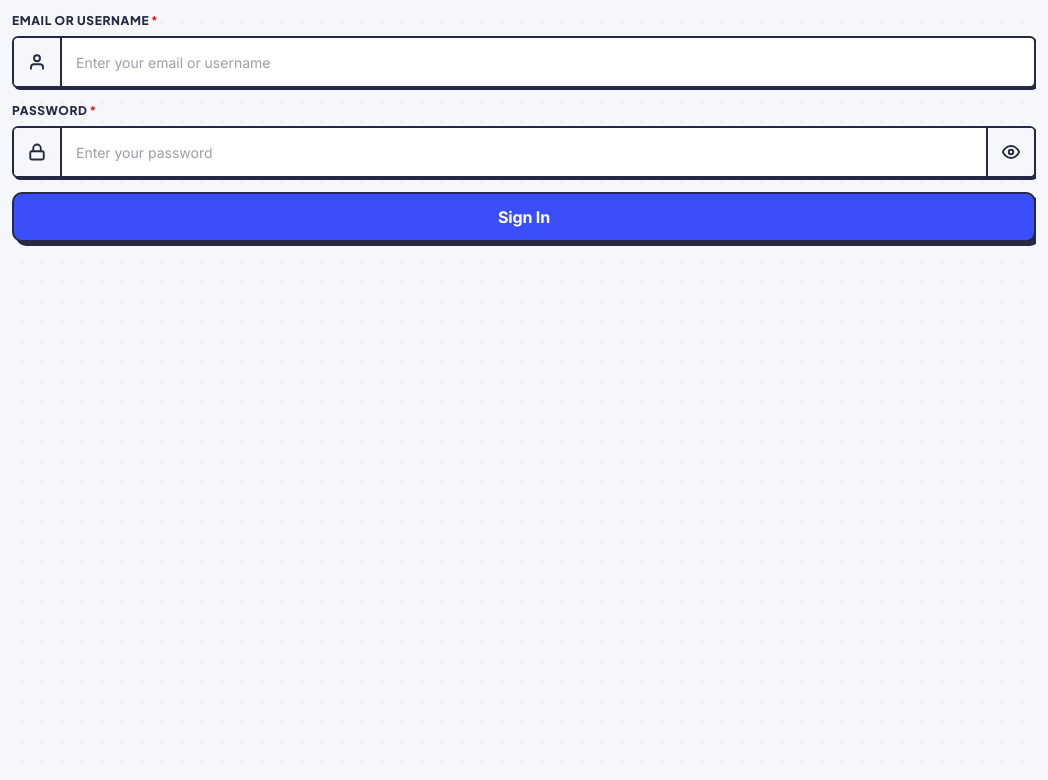
SigninForm Component › displays generic invalid credentials error on 401 response
In the field labelled "Email or Username*": coordinates (548, 62) [62,38,1034,86], type "ayush@example.com"
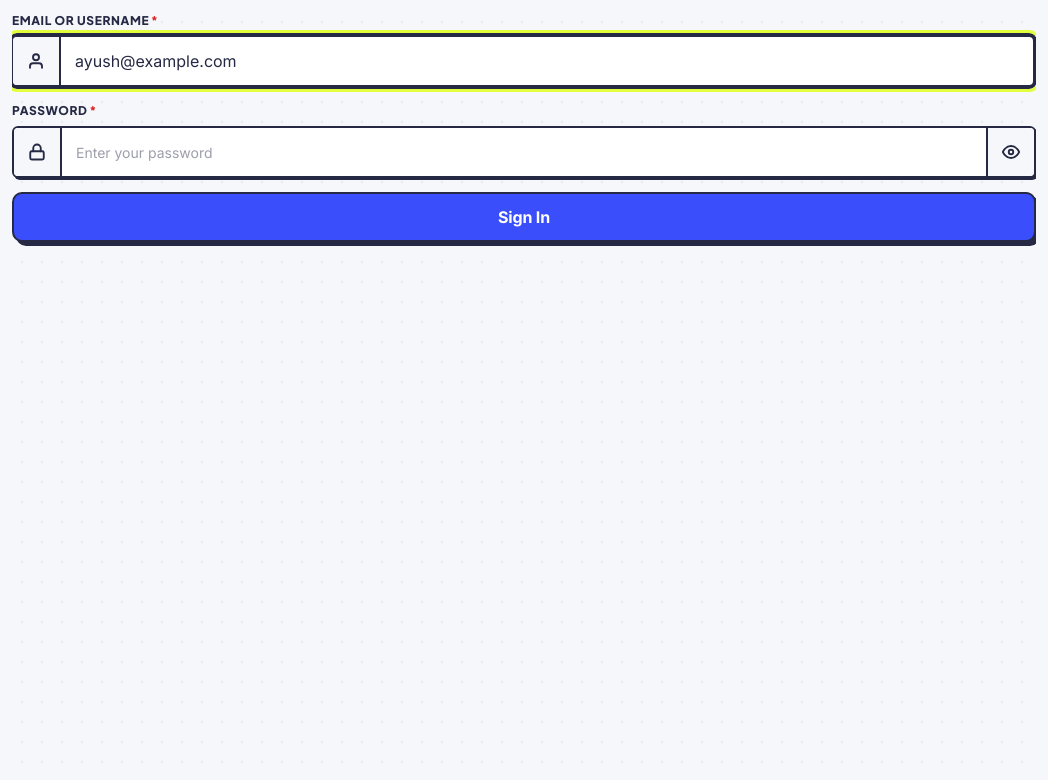
In the password field labelled "Password*": coordinates (548, 152) [62,128,1034,176], type "WrongPass!"
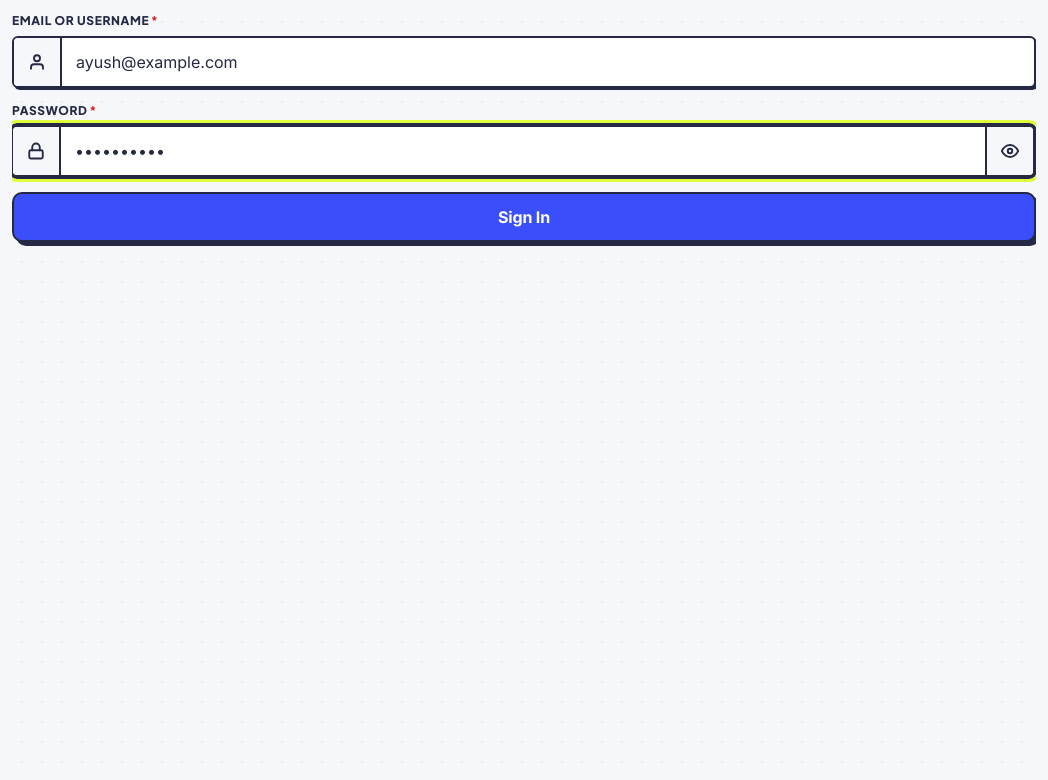
Click the button "Sign In": coordinates (524, 217) [12,192,1036,242]
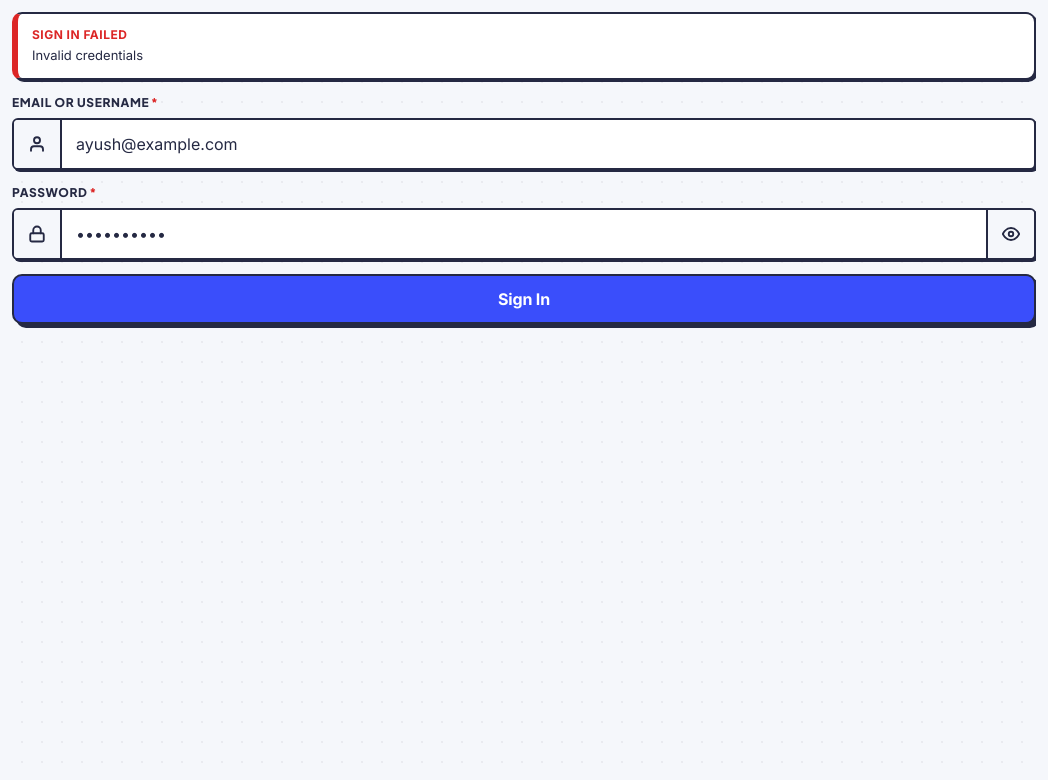
expect the text "Invalid credentials" is shown: met, box [32,47,143,63]
